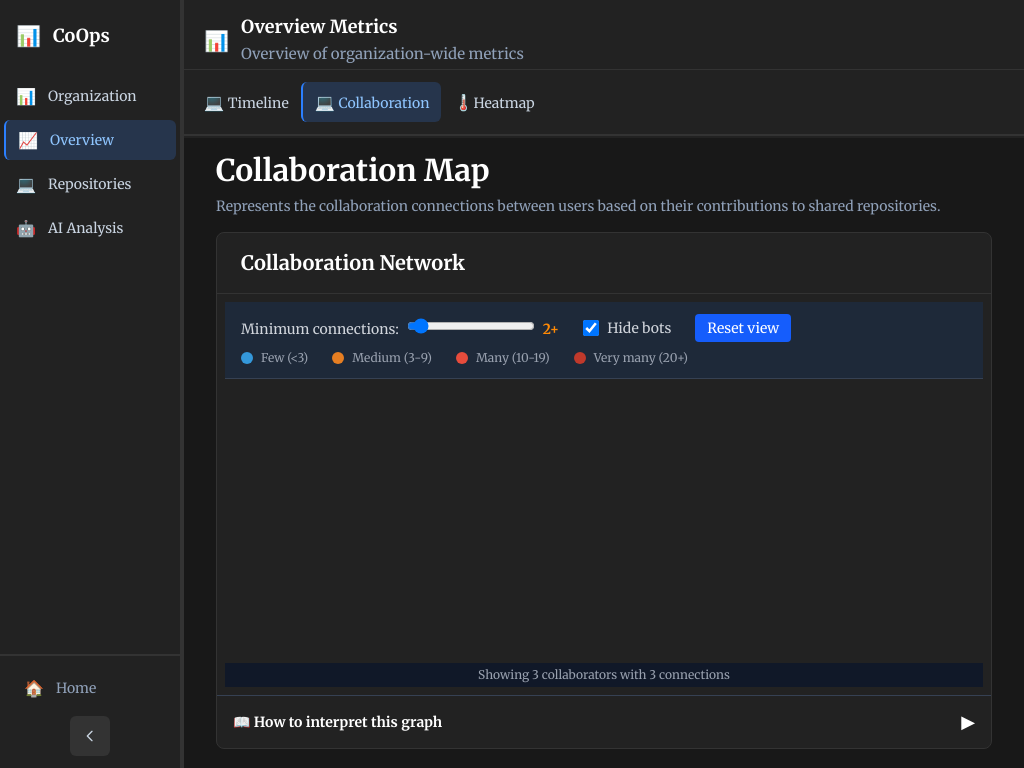
Test: CollaborationPage Component › Interatividade - Dropdown de Explicação › abre dropdown ao clicar no botão
Click the button "📖 How to interpret this graph ▶": click(338, 722) [217,696,991,748]
(page scrolled)
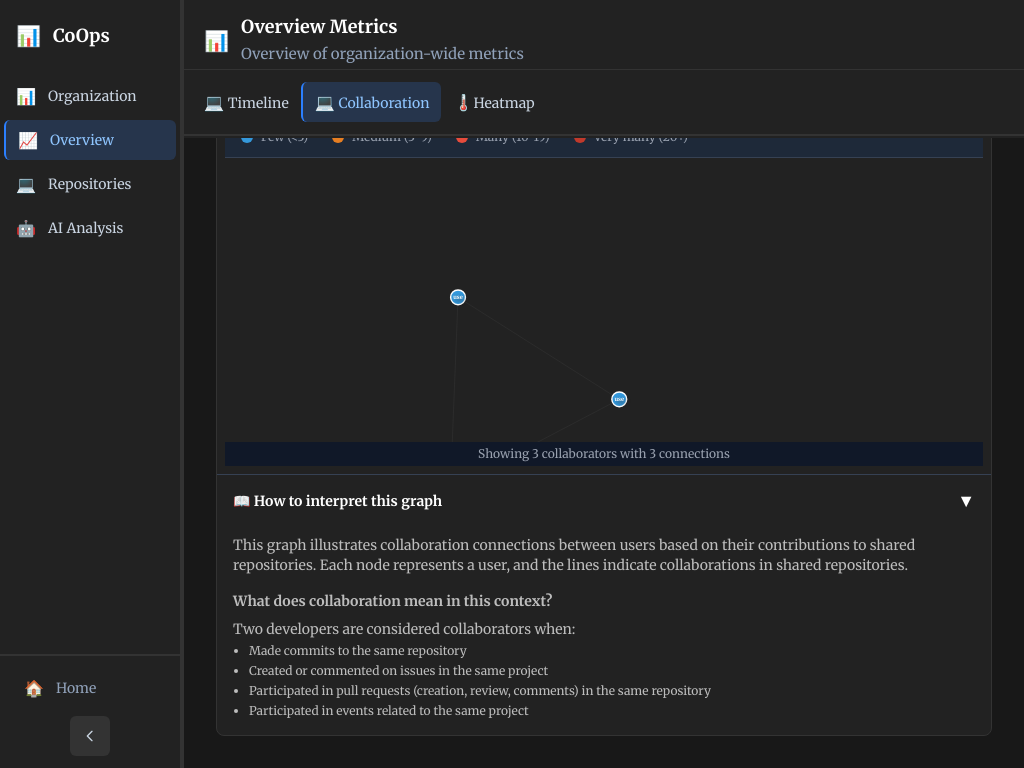
Expected: the text "Two developers are considered collaborators when:" is shown, [233,620,575,638]
